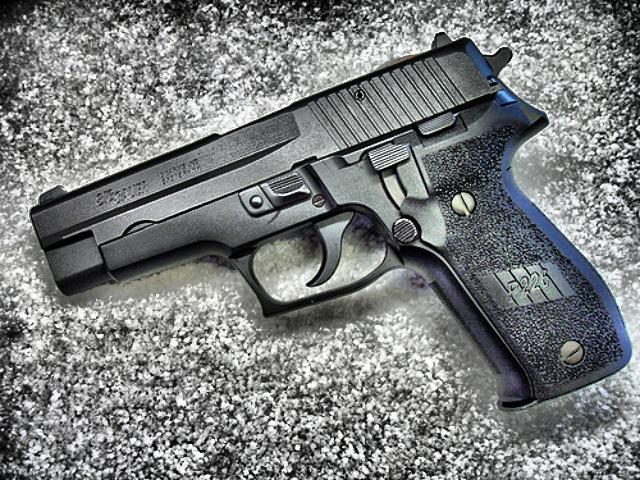pistol: (18, 29, 628, 413)
